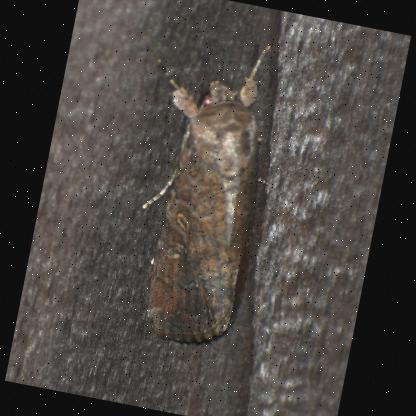Fall Armyworm Moth: (99, 21, 296, 358)
